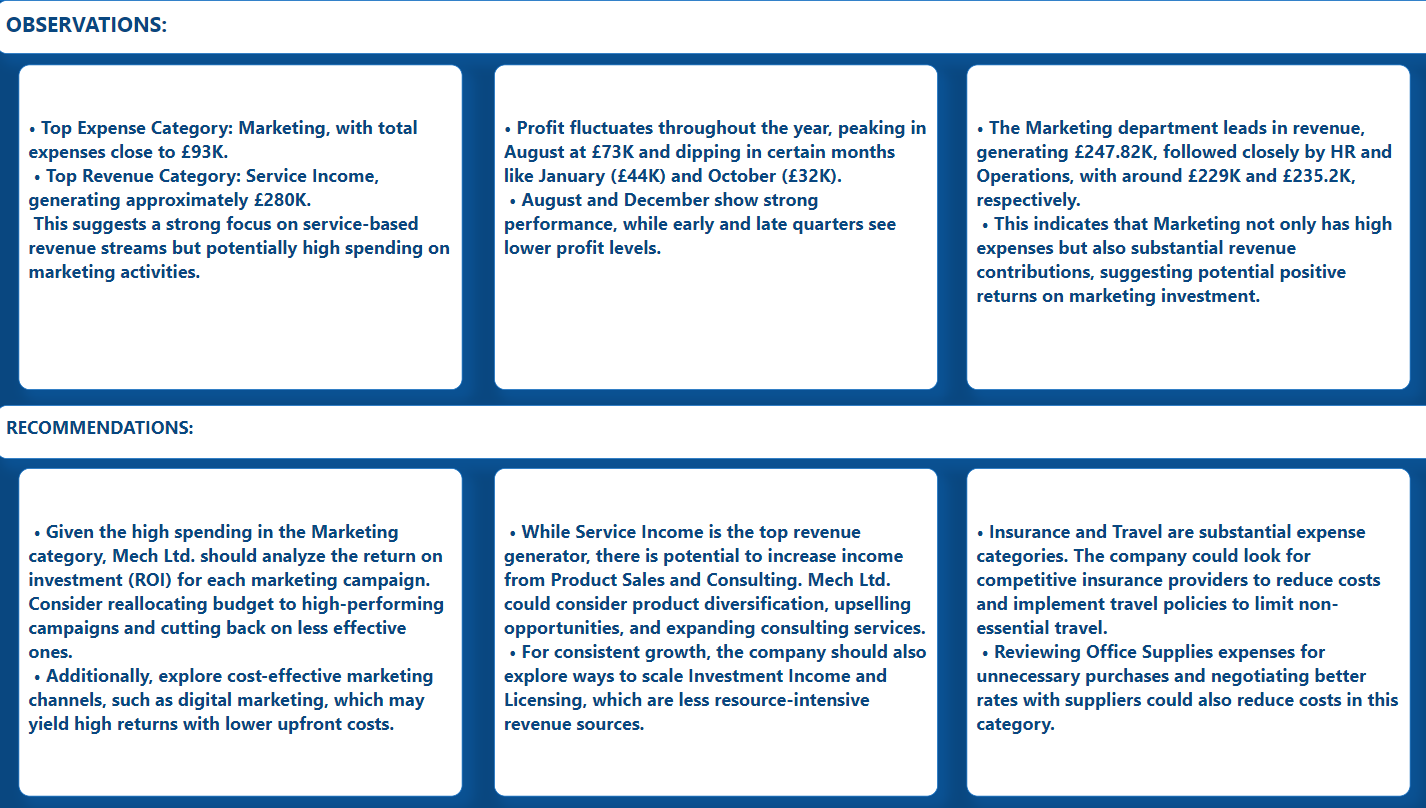

The dashboard page shown, as its layout file describes it:
{"tool":"powerbi","page":{"name":"RECOMMENDATION","canvas":[1280,720],"ordinal":1},"visuals":[{"type":"shape","box":[0,0,1280,720],"z":0},{"type":"textbox","box":[0,0,1280,48],"z":1000},{"type":"textbox","box":[20,57.3,394.7,289.3],"z":2000},{"type":"textbox","box":[442.7,57.3,394.7,289.3],"z":3000},{"type":"textbox","box":[862.7,57.3,394.7,289.3],"z":4000},{"type":"textbox","box":[0,360,1280,48],"z":5000},{"type":"textbox","box":[20,416,394.7,292],"z":6000},{"type":"textbox","box":[442.7,416,394.7,292],"z":7000},{"type":"textbox","box":[862.7,416,394.7,292],"z":8000}]}

Visuals, with their boxes in screenshot pixels (x1, y1, x2, y2), scaled from the page's 1280x720 canvas onto the 1426x808 screenshot:
shape: x1=0, y1=0, x2=1425, y2=807
textbox: x1=0, y1=0, x2=1425, y2=54
textbox: x1=22, y1=64, x2=462, y2=389
textbox: x1=493, y1=64, x2=933, y2=389
textbox: x1=961, y1=64, x2=1401, y2=389
textbox: x1=0, y1=404, x2=1425, y2=458
textbox: x1=22, y1=467, x2=462, y2=795
textbox: x1=493, y1=467, x2=933, y2=795
textbox: x1=961, y1=467, x2=1401, y2=795
